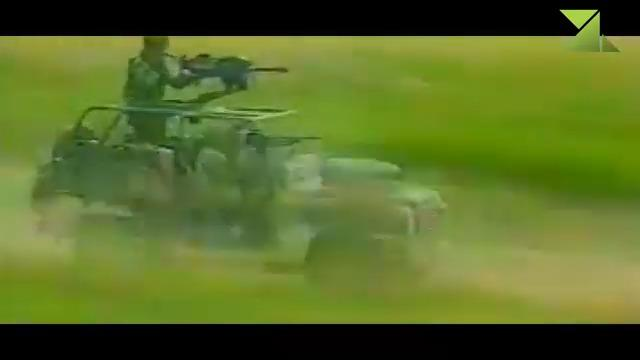MIL_HMMWV: (27, 103, 450, 293), (122, 35, 198, 146)
